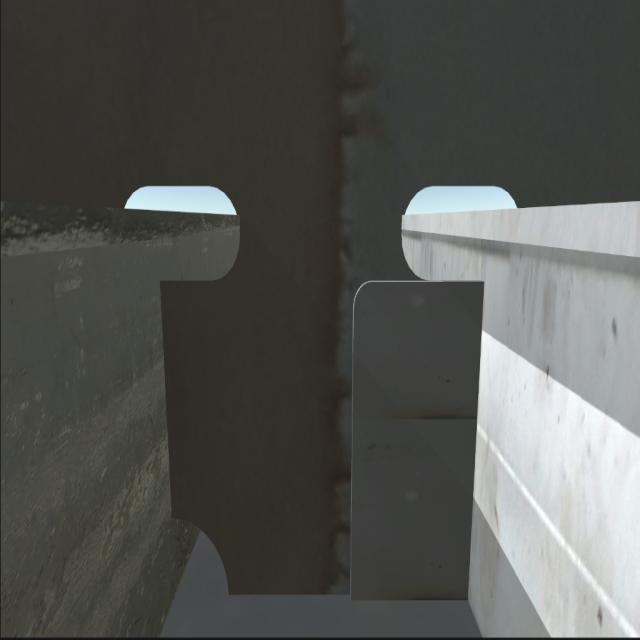fillet_hole: (173, 517, 233, 599)
fillet_yong_jeop_jang: (225, 580, 479, 615)
longi_yong_jeop_jang: (462, 267, 488, 616), (150, 271, 184, 534)
plate_CP03: (348, 276, 474, 606)
